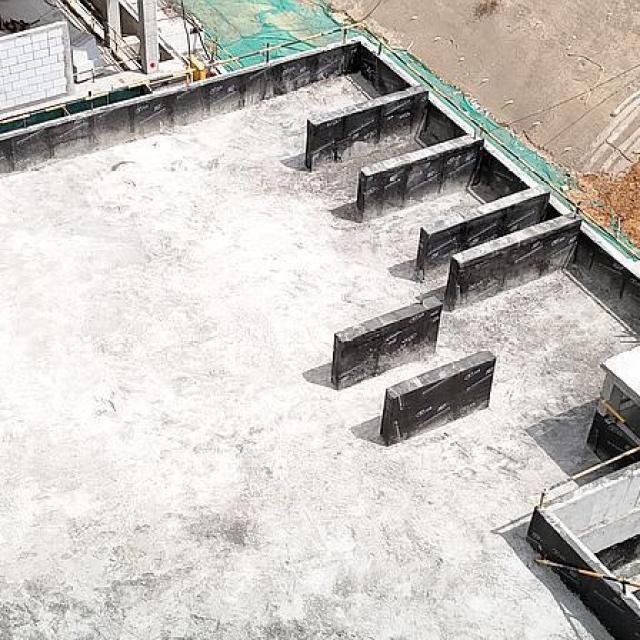edge_guardrail: (0, 20, 640, 264), (73, 23, 141, 84), (535, 558, 640, 595), (204, 32, 244, 72)
